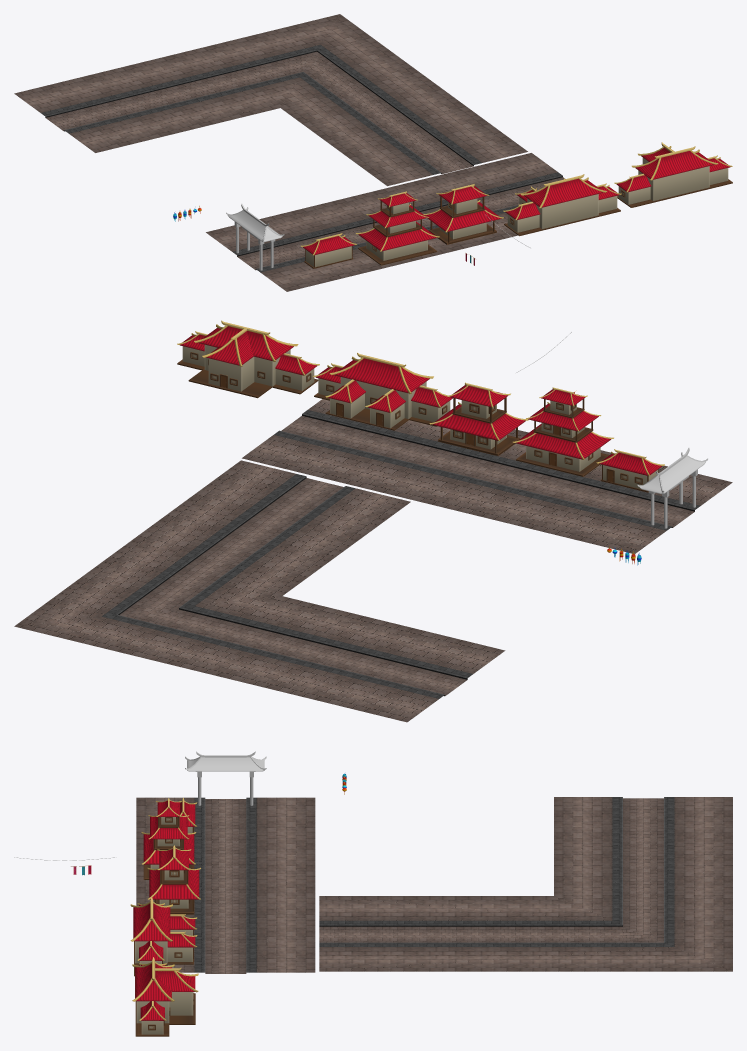
Rendered from Assets1.fbx.
3 views of the same model, one above another, from view 1: azimuth 30°, elevation 25°; view 2: azimuth 150°, elevation 25°; view 3: azimuth 270°, elevation 25° (orthographic). The views are drawn at different scales.
Parts seen in each view (by area): view 1: Road2, Road_1, House_5, House_4, House_2, House_3, House_1, Main_entry1_1; view 2: Road2, Road_1, House_5, House_4, House_2, House_3, Main_entry1_1, House_1; view 3: Road2, Road_1, House_5, House_4, House_3, House_2, Main_entry1_1.
Boxes of the visible parts, x1,y1,x2,y2 form: Road2: (14, 14, 527, 186); Road_1: (206, 153, 565, 291); House_5: (614, 142, 732, 207); House_4: (503, 174, 621, 236); House_2: (355, 191, 439, 265); House_3: (423, 184, 503, 244); House_1: (301, 233, 356, 268); Main_entry1_1: (226, 203, 284, 270); Road2: (14, 460, 505, 722); Road_1: (242, 399, 732, 553); House_5: (177, 320, 319, 398); House_4: (313, 352, 452, 430); House_2: (513, 387, 613, 476); House_3: (429, 382, 528, 455); Main_entry1_1: (637, 448, 707, 528); House_1: (596, 449, 664, 492); Road2: (319, 797, 732, 971); Road_1: (136, 797, 315, 973); House_5: (132, 957, 198, 1036); House_4: (130, 897, 197, 976); House_3: (147, 845, 200, 914); House_2: (141, 798, 196, 879); Main_entry1_1: (185, 751, 266, 805).
Size of the model in its own units: 85.79 by 10.25 by 104.
